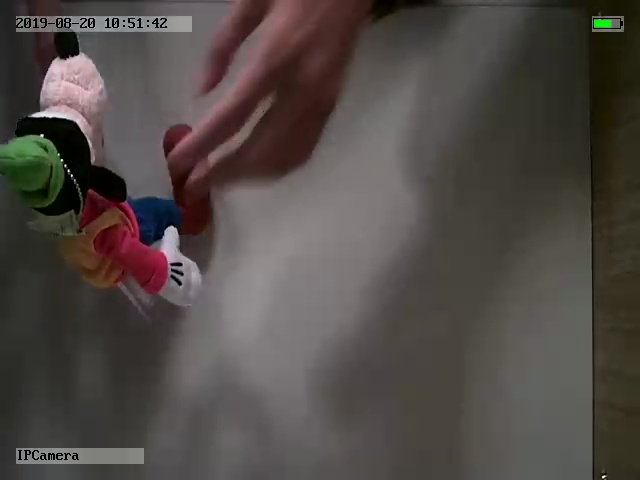goofy: (2, 32, 215, 308)
